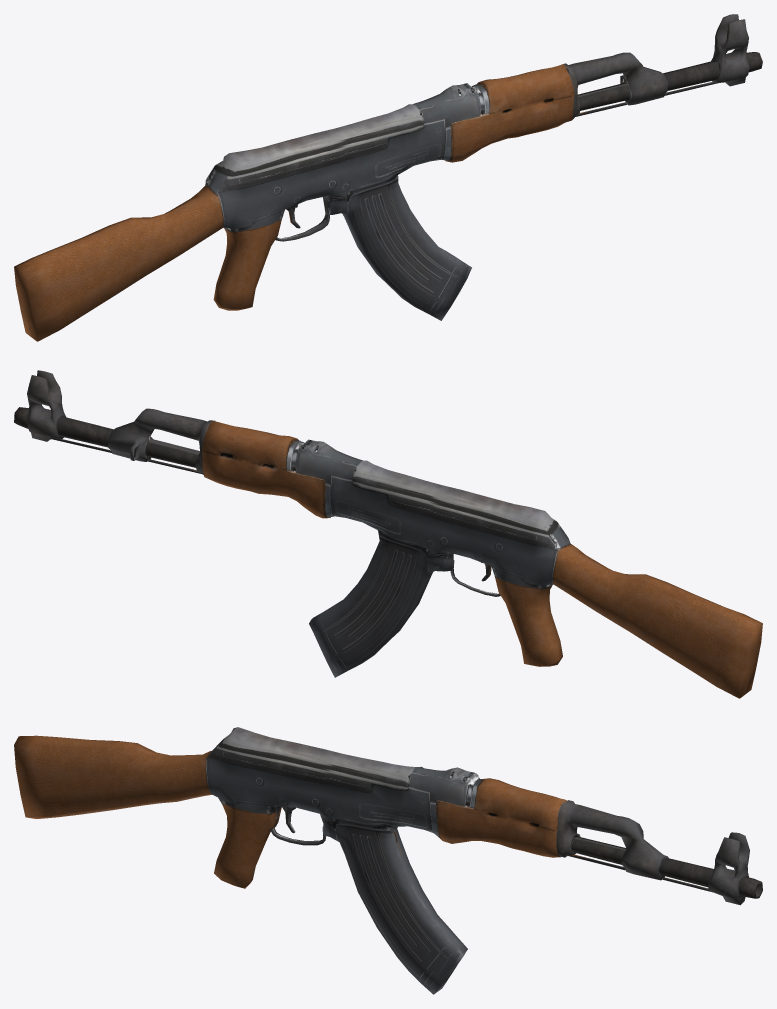
File: Kalashnikov.obj
3 renders of one model, top to bottom at view 1: azimuth 30°, elevation 25°; view 2: azimuth 150°, elevation 25°; view 3: azimuth 330°, elevation 25°, orthographic.
Parts seen in each view (by area): view 1: kalashnikov; view 2: kalashnikov; view 3: kalashnikov.
Boxes of the visible parts, x1,y1,x2,y2 form: kalashnikov: [14, 14, 762, 341]; kalashnikov: [14, 370, 762, 698]; kalashnikov: [14, 727, 762, 994].
Size of the model in its own units: 85.9 by 25.36 by 4.15.
